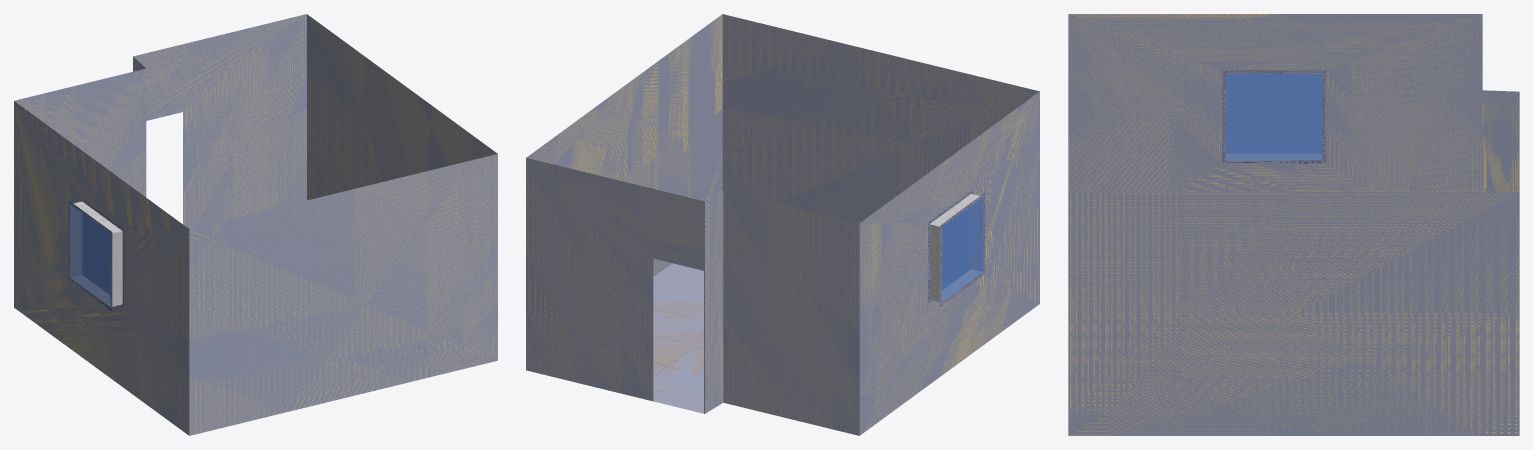
File: CUA002.obj
The picture shows the model from 3 angles, left to right: view 1: azimuth 30°, elevation 25°; view 2: azimuth 150°, elevation 25°; view 3: azimuth 270°, elevation 25°; orthographic projection. The views are drawn at different scales.
Visible parts, largest first — view 1: Mesh5 CUA002 Model, Mesh1 Group1 DES002 CUA002 Model; view 2: Mesh5 CUA002 Model, Mesh1 Group1 DES002 CUA002 Model; view 3: Mesh5 CUA002 Model, Mesh1 Group1 DES002 CUA002 Model.
Boxes of the visible parts, x1,y1,x2,y2 form: Mesh5 CUA002 Model: (14,14,497,435); Mesh1 Group1 DES002 CUA002 Model: (68,197,124,311); Mesh5 CUA002 Model: (526,14,1039,435); Mesh1 Group1 DES002 CUA002 Model: (928,189,985,306); Mesh5 CUA002 Model: (1068,14,1519,435); Mesh1 Group1 DES002 CUA002 Model: (1222,70,1325,163).
Size of the model in its own units: 4.87 by 3 by 5.03.
6 materials, 1 textured.
